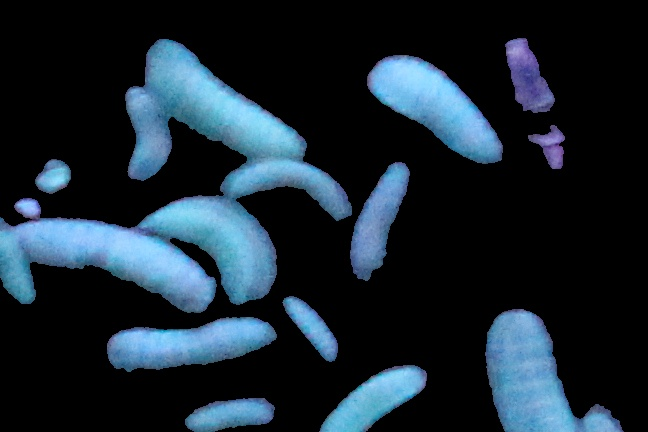larvae: (144, 38, 305, 162), (17, 217, 214, 311), (139, 192, 278, 305), (369, 53, 505, 161), (487, 309, 583, 432), (104, 317, 277, 372), (225, 142, 346, 215), (350, 164, 410, 278), (323, 367, 428, 432), (284, 293, 341, 364), (122, 81, 165, 174), (184, 396, 275, 432), (1, 217, 36, 304)
